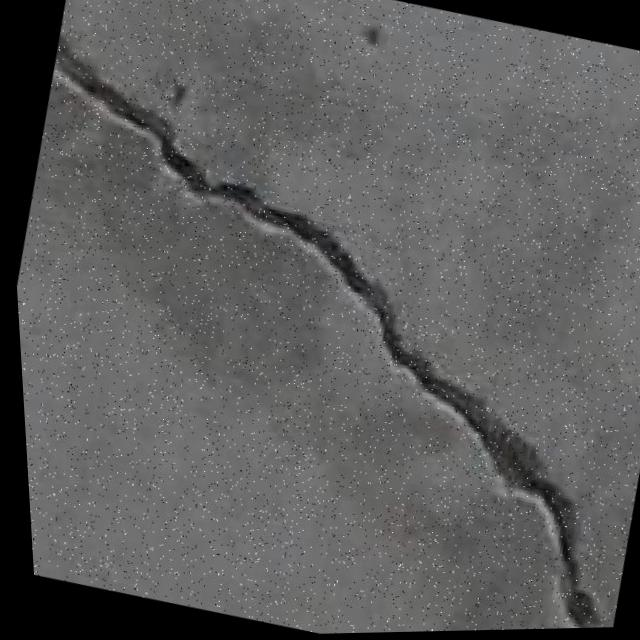Crack: (1, 19, 640, 640)
